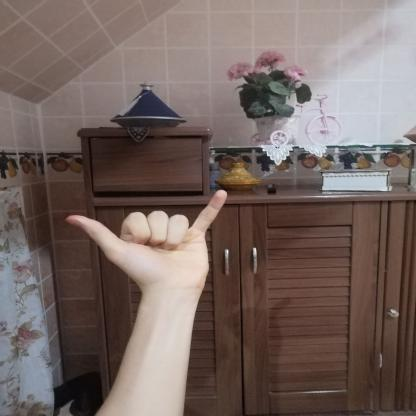YA: (50, 181, 244, 298)
